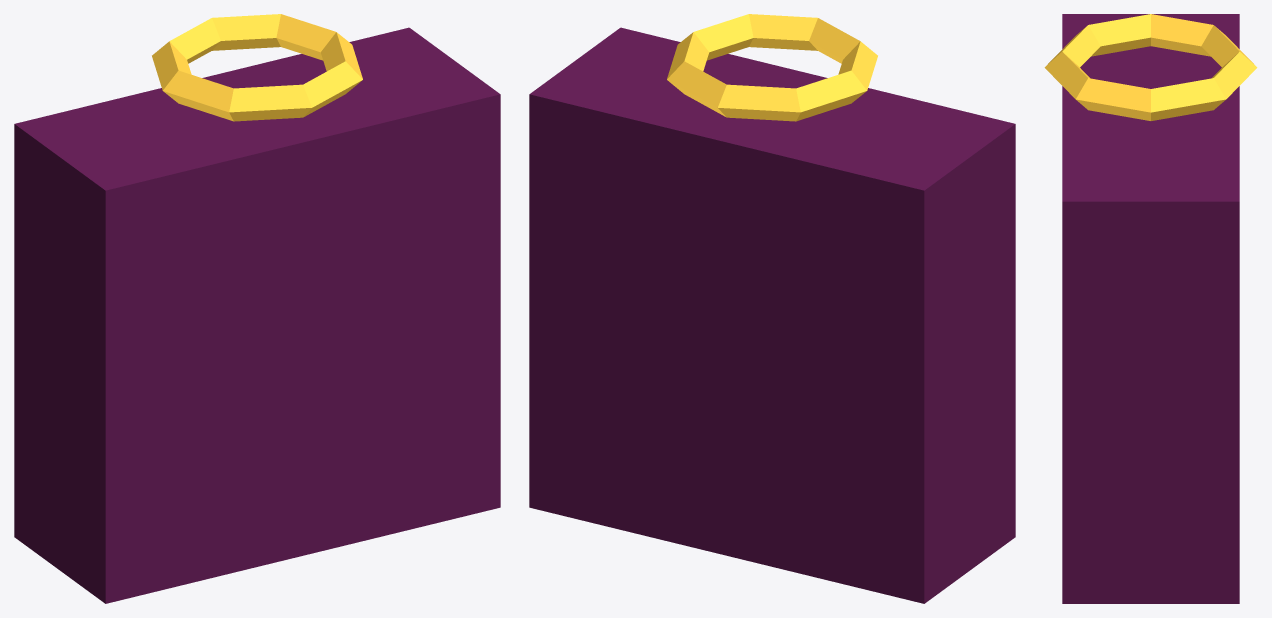
The model's file is jewelry_bag.glb.
3 views of the same model, side by side, from view 1: azimuth 30°, elevation 25°; view 2: azimuth 150°, elevation 25°; view 3: azimuth 270°, elevation 25° (orthographic). The views are drawn at different scales.
Parts seen in each view (by area): view 1: bag_velvet, bag_gold; view 2: bag_velvet, bag_gold; view 3: bag_velvet, bag_gold.
Boxes of the visible parts, x1=… form: bag_velvet: x1=14, y1=27, x2=500, y2=603; bag_gold: x1=152, y1=14, x2=362, y2=121; bag_velvet: x1=529, y1=27, x2=1015, y2=603; bag_gold: x1=667, y1=14, x2=877, y2=121; bag_velvet: x1=1062, y1=14, x2=1239, y2=603; bag_gold: x1=1044, y1=14, x2=1257, y2=120.
Size of the model in its own units: 0.1 by 0.114 by 0.048.
